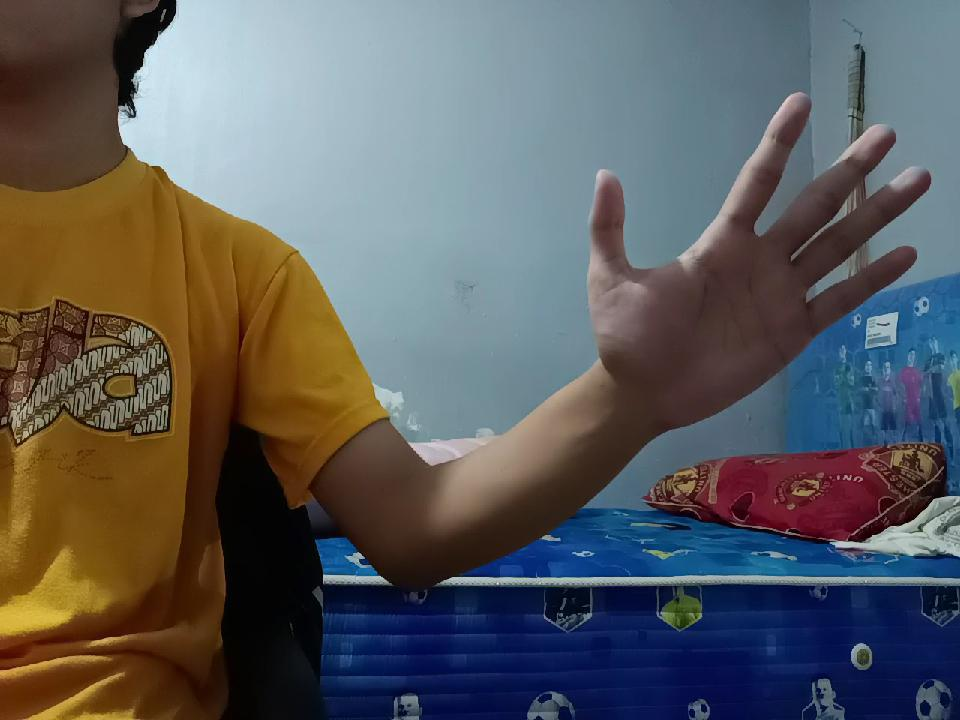paper: (578, 96, 912, 430)
